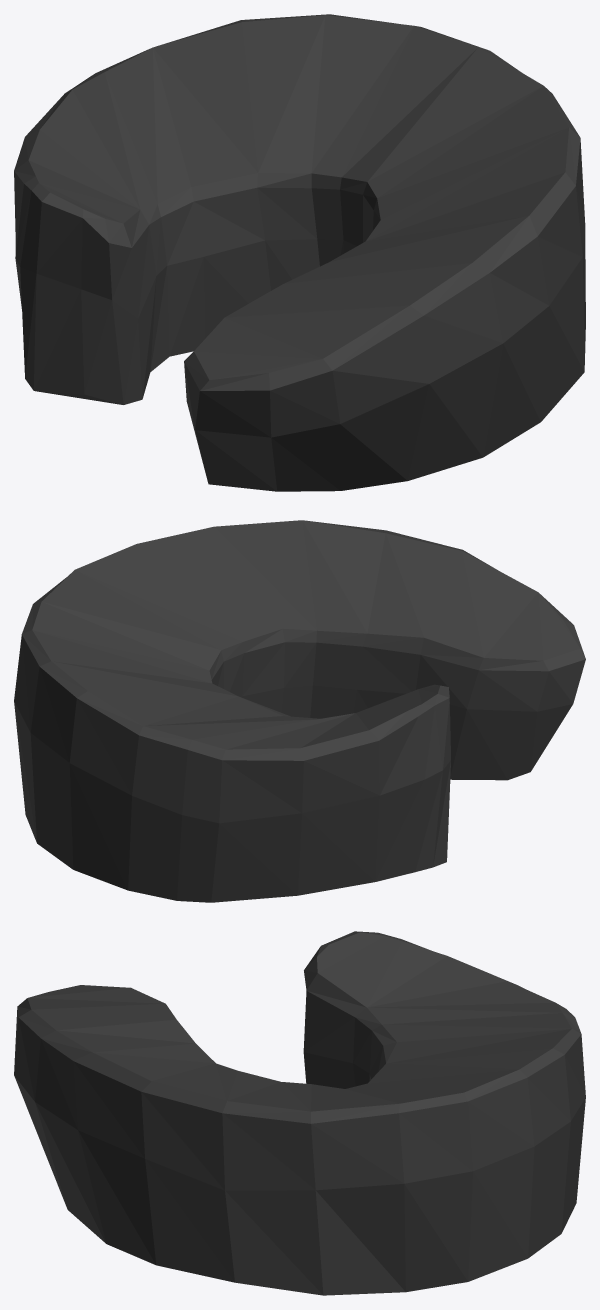
The model's file is Lateral_meniscus.glb.
3 views of the same model, one above another, from view 1: azimuth 30°, elevation 25°; view 2: azimuth 150°, elevation 25°; view 3: azimuth 270°, elevation 25° (orthographic). The views are drawn at different scales.
Parts seen in each view (by area): view 1: Lateral_meniscus; view 2: Lateral_meniscus; view 3: Lateral_meniscus.
Boxes of the visible parts, x1,y1,x2,y2 form: Lateral_meniscus: [14, 14, 585, 491]; Lateral_meniscus: [14, 520, 585, 902]; Lateral_meniscus: [14, 931, 585, 1295].
Bounding box in the file's own units: 0.1628 × 0.0708 × 0.1929.
Materials: 1 (1 with a texture image).
